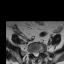CCS_normal: (35, 50, 37, 58)
LFS_stenosis: (39, 48, 41, 54)
LLS_normal: (37, 50, 39, 57)
RFS_stenosis: (31, 49, 33, 55)
RLS_normal: (33, 50, 35, 58)
